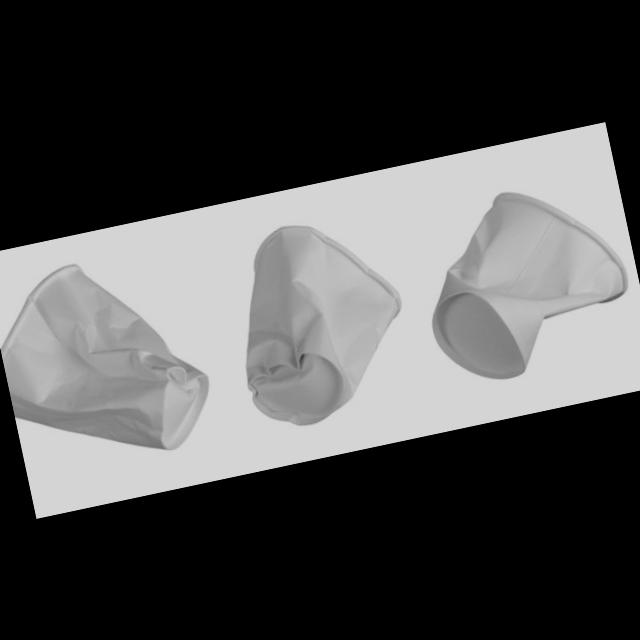trash: (403, 168, 640, 394), (0, 239, 220, 480), (212, 204, 423, 439)
